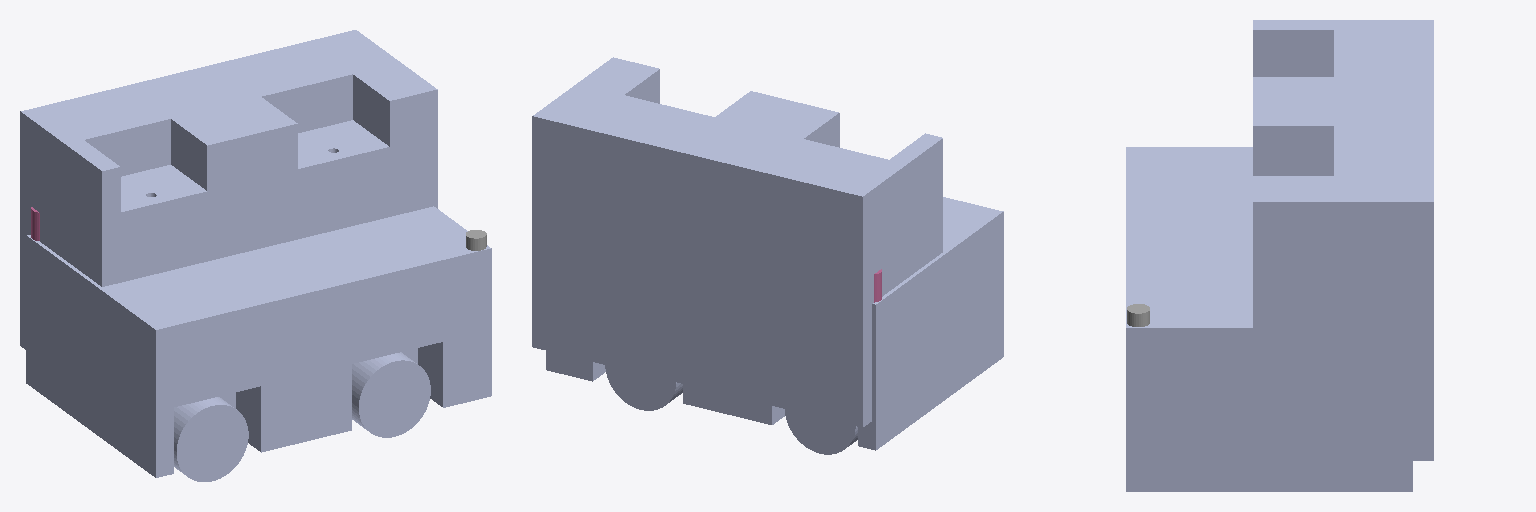
The robot description file, URDF, robot "toiletcleaner":
<?xml version="1.0" encoding="utf-8" ?>

<robot name="toiletcleaner" xmlns:xacro="toiletcleaner">
  <!--
  <xacro:property name="r200_cam_rgb_px" value="1.80" />
  <xacro:property name="r200_cam_rgb_py" value="-1.09" />
  <xacro:property name="r200_cam_rgb_pz" value="1.013" />
  <xacro:property name="r200_cam_depth_offset" value="0.01" />
  -->
  <!--#region robot-->
  <link name="base_footprint" />
  <joint name="base_joint" type="fixed">
    <parent link="base_footprint" />
    <child link="base_link" />
    <origin xyz="0 0 0" rpy="0 0 0" />
  </joint>
  <link name="base_link">
    <inertial>
      <origin xyz="0.0030973 2.7709E-17 0.16295" rpy="0 0 0" />
      <mass value="1000.335" />
      <inertia ixx="2.5416" ixy="8.9418E-17" ixz="0.029123" iyy="5.2004" iyz="7.8757E-17" izz="6.208" />
    </inertial>
    <visual>
      <origin xyz="0 0 0" rpy="0 0 0" />
      <geometry>
        <mesh filename="package://toiletcleaner/meshes/base_link.STL" />
      </geometry>
      <material name="">
        <color rgba="0.79216 0.81961 0.93333 1" />
      </material>
    </visual>
    <collision>
      <origin xyz="0 0 0" rpy="0 0 0" />
      <geometry>
        <mesh filename="package://toiletcleaner/meshes/base_link.STL" />
      </geometry>
    </collision>
  </link>
  <link name="wheelfl">
    <inertial>
      <origin xyz="0 0 0.0395" rpy="0 0 0" />
      <mass value="1000.5294" />
      <inertia ixx="0.0031515" ixy="3.2526E-19" ixz="6.1513E-20" iyy="0.0031515" iyz="3.6204E-20" izz="0.0047122" />
    </inertial>
    <visual>
      <origin xyz="0 0 0" rpy="0 0 0" />
      <geometry>
        <mesh filename="package://toiletcleaner/meshes/wheelfl.STL" />
      </geometry>
      <material name="">
        <color rgba="0.79216 0.81961 0.93333 1" />
      </material>
    </visual>
    <collision>
      <origin xyz="0 0 0" rpy="0 0 0" />
      <geometry>
        <mesh filename="package://toiletcleaner/meshes/wheelfl.STL" />
      </geometry>
    </collision>
  </link>
  <joint name="wheel2" type="fixed">
    <origin xyz="-0.236 -0.155 0.038" rpy="-1.5708 1.0388 -3.1416" />
    <parent link="base_link" />
    <child link="wheelfl" />
    <axis xyz="0 0 0" />
  </joint>
  <link name="wheelfr">
    <inertial>
      <origin xyz="0 2.7756E-17 0.0395" rpy="0 0 0" />
      <mass value="1000.5294" />
      <inertia ixx="0.0031515" ixy="-2.1684E-19" ixz="-7.9777E-20" iyy="0.0031515" iyz="-1.9702E-21" izz="0.0047122" />
    </inertial>
    <visual>
      <origin xyz="0 0 0" rpy="0 0 0" />
      <geometry>
        <mesh filename="package://toiletcleaner/meshes/wheelfr.STL" />
      </geometry>
      <material name="">
        <color rgba="0.79216 0.81961 0.93333 1" />
      </material>
    </visual>
    <collision>
      <origin xyz="0 0 0" rpy="0 0 0" />
      <geometry>
        <mesh filename="package://toiletcleaner/meshes/wheelfr.STL" />
      </geometry>
    </collision>
  </link>
  <joint name="wheel3" type="fixed">
    <origin xyz="-0.236 0.155 0.038" rpy="1.5708 1.1318 -3.1416" />
    <parent link="base_link" />
    <child link="wheelfr" />
    <axis xyz="0 0 1" />
  </joint>
  <link name="wheelrl">
    <inertial>
      <origin xyz="0 0 0.0395" rpy="0 0 0" />
      <mass value="1000.5294" />
      <inertia ixx="0.0031515" ixy="0" ixz="0" iyy="0.0031515" iyz="-9.1642E-36" izz="0.0047122" />
    </inertial>
    <visual>
      <origin xyz="0 0 0" rpy="0 0 0" />
      <geometry>
        <mesh filename="package://toiletcleaner/meshes/wheelrl.STL" />
      </geometry>
      <material name="">
        <color rgba="0.79216 0.81961 0.93333 1" />
      </material>
    </visual>
    <collision>
      <origin xyz="0 0 0" rpy="0 0 0" />
      <geometry>
        <mesh filename="package://toiletcleaner/meshes/wheelrl.STL" />
      </geometry>
    </collision>
  </link>
  <joint name="wheel1" type="fixed">
    <origin xyz="0.1605 -0.155 0.038" rpy="1.5708 0 0" />
    <parent link="base_link" />
    <child link="wheelrl" />
    <axis xyz="0 0 1" />
  </joint>
  <link name="wheelrr">
    <inertial>
      <origin xyz="0 0 0.0395" rpy="0 0 0" />
      <mass value="1000.5294" />
      <inertia ixx="0.0031515" ixy="1.0842E-19" ixz="1.6884E-20" iyy="0.0031515" iyz="-3.1442E-20" izz="0.0047122" />
    </inertial>
    <visual>
      <origin xyz="0 0 0" rpy="0 0 0" />
      <geometry>
        <mesh filename="package://toiletcleaner/meshes/wheelrr.STL" />
      </geometry>
      <material name="">
        <color rgba="0.79216 0.81961 0.93333 1" />
      </material>
    </visual>
    <collision>
      <origin xyz="0 0 0" rpy="0 0 0" />
      <geometry>
        <mesh filename="package://toiletcleaner/meshes/wheelrr.STL" />
      </geometry>
    </collision>
  </link>
  <joint name="wheel4" type="fixed">
    <origin xyz="0.1605 0.155 0.038" rpy="-1.5708 -0.49281 0" />
    <parent link="base_link" />
    <child link="wheelrr" />
    <axis xyz="0 0 1" />
  </joint>


  <link name="lidar1">
    <visual>
      <origin xyz="0 0 0" rpy="0 0 0" />
      <geometry>
        <cylinder length="0.0595" radius="0.02" />
      </geometry>
    </visual>
  </link>

  <joint name="lidar1joint" type="fixed">
    <origin xyz="-0.34379 0.22279 0.338" rpy="0 0 3.14" />
    <parent link="base_link" />
    <child link="lidar1" />
  </joint>

  <link name="lidar2">
    <visual>
      <origin xyz="0 0 0" rpy="0 0 0" />
      <geometry>
        <cylinder length="0.0315" radius="0.02" />
      </geometry>
    </visual>
  </link>

  <joint name="lidar2joint" type="fixed">
    <origin xyz="0.34379 -0.22279 0.318" rpy="0 0 0" />
    <parent link="base_link" />
    <child link="lidar2" />
  </joint>


  <link name="base_arm">
    <inertial>
      <origin xyz="-9.3071E-06 -0.1093 -0.023759" rpy="0 0 0" />
      <mass value="8.2109" />
      <inertia ixx="0.065683" ixy="5.0701E-05" ixz="-0.00010816" iyy="0.051477" iyz="0.0035599" izz="0.050867" />
    </inertial>
    <visual>
      <origin xyz="0 0 0" rpy="0 0 0" />
      <geometry>
        <mesh filename="package://toiletcleaner/meshes/delta/base_link.STL" />
      </geometry>
      <material name="">
        <color rgba="0.79216 0.81961 0.93333 1" />
      </material>
    </visual>
    <collision>
      <origin xyz="0 0 0" rpy="0 0 0" />
      <geometry>
        <mesh filename="package://toiletcleaner/meshes/delta/base_link.STL" />
      </geometry>
    </collision>
  </link>

  <joint name="baseMount" type="fixed">
    <origin xyz="0.00794615388435427 -0.0276456014098746 0.305" rpy="-1.5707963267949 0 0" />
    <parent link="base_link" />
    <child link="base_arm" />
    <axis xyz="0 0 0" />
  </joint>
  <link name="shoulder_link">
    <inertial>
      <origin xyz="-0.0078508 0.00014135 0.065441" rpy="0 0 0" />
      <mass value="2.9013" />
      <inertia ixx="0.014708" ixy="-0.00069611" ixz="0.0014618" iyy="0.014376" iyz="0.0035856" izz="0.011244" />
    </inertial>
    <visual>
      <origin xyz="0 0 0" rpy="0 0 0" />
      <geometry>
        <mesh filename="package://toiletcleaner/meshes/delta/shoulder_link.STL" />
      </geometry>
      <material name="">
        <color rgba="0.99608 0.99608 1 1" />
      </material>
    </visual>
    <collision>
      <origin xyz="0 0 0" rpy="0 0 0" />
      <geometry>
        <mesh filename="package://toiletcleaner/meshes/delta/shoulder_link.STL" />
      </geometry>
    </collision>
  </link>
  <joint name="shoulder" type="revolute">
    <origin xyz="0 -0.23 0" rpy="1.5708 1.5708 0" />
    <parent link="base_arm" />
    <child link="shoulder_link" />
    <axis xyz="0 0 1" />
    <limit lower="-2.9670597284" upper="2.9670597284" effort="1000" velocity="6.4577182324" />
  </joint>
  <link name="elbow_link">
    <inertial>
      <origin xyz="0 -0.23 0" rpy="1.5708 1.5708 0" />
      <mass value="8.5041" />
      <inertia ixx="0.15281" ixy="0.0001706" ixz="0.018394" iyy="0.15451" iyz="0.0013276" izz="0.022252" />
    </inertial>
    <visual>
      <origin xyz="0 0 0" rpy="0 0 0" />
      <geometry>
        <mesh filename="package://toiletcleaner/meshes/delta/elbow_link.STL" />
      </geometry>
      <material name="">
        <color rgba="0.99608 0.99608 1 1" />
      </material>
    </visual>
    <collision>
      <origin xyz="0 0 0" rpy="0 0 0" />
      <geometry>
        <mesh filename="package://toiletcleaner/meshes/delta/elbow_link.STL" />
      </geometry>
    </collision>
  </link>
  <joint name="elbow" type="revolute">
    <origin xyz="-0.025 0.11756 0.14" rpy="0 0 1.5708" />
    <parent link="shoulder_link" />
    <child link="elbow_link" />
    <axis xyz="-0.99931 0.035302 -0.011772" />
    <limit lower="-1.8325957146" upper="2.3561944902" effort="1000" velocity="4.5378560552" />
  </joint>
  <link name="wrist1_link">
    <inertial>
      <origin xyz="0.026153 -0.032487 -3.1699E-06" rpy="0 0 0" />
      <mass value="3.57" />
      <inertia ixx="0.015611" ixy="0.0024596" ixz="-2.2157E-07" iyy="0.0085149" iyz="1.2047E-06" izz="0.016453" />
    </inertial>
    <visual>
      <origin xyz="0 0 0" rpy="0 0 0" />
      <geometry>
        <mesh filename="package://toiletcleaner/meshes/delta/wrist1_link.STL" />
      </geometry>
      <material name="">
        <color rgba="0.99608 0.99608 1 1" />
      </material>
    </visual>
    <collision>
      <origin xyz="0 0 0" rpy="0 0 0" />
      <geometry>
        <mesh filename="package://toiletcleaner/meshes/delta/wrist1_link.STL" />
      </geometry>
    </collision>
  </link>
  <joint name="wrist1" type="revolute">
    <origin xyz="-0.11756 0 0.44" rpy="0 -1.5708 0" />
    <parent link="elbow_link" />
    <child link="wrist1_link" />
    <axis xyz="-0.011772 -0.035302 -0.99931" />
    <limit lower="-3.5779249666" upper="1.1344640138" effort="100" velocity="7.1558499332" />
  </joint>
  <link name="wrist2_link">
    <inertial>
      <origin xyz="0.16256 -9.3891E-06 -8.8884E-05" rpy="0 0 0" />
      <mass value="3.2244" />
      <inertia ixx="0.0048804" ixy="4.1602E-06" ixz="-0.00041865" iyy="0.0081183" iyz="-1.789E-06" izz="0.0094686" />
    </inertial>
    <visual>
      <origin xyz="0 0 0" rpy="0 0 0" />
      <geometry>
        <mesh filename="package://toiletcleaner/meshes/delta/wrist2_link.STL" />
      </geometry>
      <material name="">
        <color rgba="0.79216 0.81961 0.93333 1" />
      </material>
    </visual>
    <collision>
      <origin xyz="0 0 0" rpy="0 0 0" />
      <geometry>
        <mesh filename="package://toiletcleaner/meshes/delta/wrist2_link.STL" />
      </geometry>
    </collision>
  </link>
  <joint name="wrist2" type="revolute">
    <origin xyz="0.0400000444661043 -0.435000000020256 0" rpy="-3.14159265358979 0 1.5707963267949" />
    <parent link="wrist1_link" />
    <child link="wrist2_link" />
    <axis xyz="-1 0 0" />
    <limit lower="-3.3161255788" upper="3.3161255788" effort="100" velocity="9.599310886" />
  </joint>
  <link name="wrist3_link">
    <inertial>
      <origin xyz="-3.4357E-05 0.0072747 -0.047367" rpy="0 0 0" />
      <mass value="0.22106" />
      <inertia ixx="0.00017763" ixy="1.6719E-07" ixz="8.793E-09" iyy="0.00017949" iyz="-1.2119E-05" izz="0.00014461" />
    </inertial>
    <visual>
      <origin xyz="0 0 0" rpy="0 0 0" />
      <geometry>
        <mesh filename="package://toiletcleaner/meshes/delta/wrist3_link.STL" />
      </geometry>
      <material name="">
        <color rgba="0.79216 0.81961 0.93333 1" />
      </material>
    </visual>
    <collision>
      <origin xyz="0 0 0" rpy="0 0 0" />
      <geometry>
        <mesh filename="package://toiletcleaner/meshes/delta/wrist3_link.STL" />
      </geometry>
    </collision>
  </link>
  <joint name="wrist3" type="revolute">
    <origin xyz="0.0330000000202569 0 0" rpy="1.5707963267949 0 1.5707963267949" />
    <parent link="wrist2_link" />
    <child link="wrist3_link" />
    <axis xyz="0 -1 0" />
    <limit lower="-2.0943951024" upper="2.0943951024" effort="9.5120444234" velocity="7" />
  </joint>
  <link name="wrist4_link">
    <inertial>
      <origin xyz="-0.0032297 7.0268E-05 -9.16E-05" rpy="0 0 0" />
      <mass value="0.046951" />
      <inertia ixx="2.5829E-05" ixy="2.1441E-09" ixz="-2.7949E-09" iyy="1.3329E-05" iyz="-8.2641E-08" izz="1.3373E-05" />
    </inertial>
    <visual>
      <origin xyz="0 0 0" rpy="0 0 0" />
      <geometry>
        <mesh filename="package://toiletcleaner/meshes/delta/wrist4_link.STL" />
      </geometry>
      <material name="">
        <color rgba="0.74902 0.74902 0.74902 1" />
      </material>
    </visual>
    <collision>
      <origin xyz="0 0 0" rpy="0 0 0" />
      <geometry>
        <mesh filename="package://toiletcleaner/meshes/delta/wrist4_link.STL" />
      </geometry>
    </collision>
  </link>
  <joint name="wrist4" type="revolute">
    <origin xyz="0 0 -0.0984999999999989" rpy="1.4398966303838 -1.5707963267949 0" />
    <parent link="wrist3_link" />
    <child link="wrist4_link" />
    <axis xyz="1 0 0" />
    <limit lower="-6.2831853072" upper="6.2831853072" effort="100" velocity="17.45329252" />
  </joint>
  <!--#endregion robot-->

  <!--#region extraLinks-->

  <!--#region cam links-->
  <joint name="camera_joint" type="fixed">
    <origin xyz="0.05 -0.06 -0.06" rpy="0 1.57 0" />
    <parent link="wrist3_link" />
    <child link="camera_link" />
  </joint>

  <link name="camera_link">
    <visual>
      <origin xyz="0 0 0" rpy="1.57 0 1.57" />
      <geometry>
        <mesh filename="package://toiletcleaner/meshes/r200.dae" />
      </geometry>
    </visual>
    <collision>
      <origin xyz="0.003 0.065 0.007" rpy="0 0 0" />
      <geometry>
        <box size="0.012 0.132 0.020" />
      </geometry>
    </collision>
  </link>

  <joint name="camera_rgb_joint" type="fixed">
    <origin xyz="0 0 0" rpy="0 0 0" />
    <parent link="camera_link" />
    <child link="camera_rgb_frame" />
  </joint>
  <link name="camera_rgb_frame" />

  <joint name="camera_rgb_optical_joint" type="fixed">
    <origin xyz="0 0 0" rpy="-1.57 0 -1.57" />
    <parent link="camera_rgb_frame" />
    <child link="camera_rgb_optical_frame" />
  </joint>
  <link name="camera_rgb_optical_frame" />

  <joint name="camera_depth_joint" type="fixed">
    <origin xyz="0 0.01 0" rpy="0 0 0" />
    <parent link="camera_link" />
    <child link="camera_depth_frame" />
  </joint>
  <link name="camera_depth_frame" />

  <joint name="camera_depth_optical_joint" type="fixed">
    <origin xyz="0 0 0" rpy="-1.57 0 -1.57" />
    <parent link="camera_depth_frame" />
    <child link="camera_depth_optical_frame" />
  </joint>
  <link name="camera_depth_optical_frame" />
  <!--#endregion links-->

  <!--#endregion extraLiniks-->

  <!--#region gazebo plugins-->

  <!--#region holonomic movement-->
  <gazebo>
    <plugin name="object_controller" filename="libgazebo_ros_planar_move.so">
      <commandTopic>cmd_vel</commandTopic>
      <odometryTopic>odom</odometryTopic>
      <odometryFrame>odom</odometryFrame>
      <odometryRate>20.0</odometryRate>
      <robotBaseFrame>base_footprint</robotBaseFrame>
    </plugin>
  </gazebo>
  <!--#endregion holonomic movement-->

  <!--#region ros_control-->
  <gazebo>
    <plugin name="gazebo_ros_control" filename="libgazebo_ros_control.so">
      <robotNamespace>/toiletcleaner</robotNamespace>
      <robotSimType>gazebo_ros_control/DefaultRobotHWSim</robotSimType>
      <legacyModeNS>true</legacyModeNS>
    </plugin>
    <plugin name="gzplugin_joint_control" filename="libgazebo_joint_control.so">
      <robot_components_namespace>toiletcleaner</robot_components_namespace>
    </plugin>
    <plugin name="gzplugin_joint_state_client" filename="libgazebo_joint_state_client.so">
      <robot_components_namespace>toiletcleaner</robot_components_namespace>
    </plugin>
    <plugin name="gzplugin_joint_state_publisher" filename="libgazebo_joint_state_publisher.so">
      <robot_components_namespace>toiletcleaner</robot_components_namespace>
    </plugin>
    <plugin name="gzplugin_joint_trajectory_server" filename="libgazebo_joint_trajectory_server.so">
      <robot_components_namespace>toiletcleaner</robot_components_namespace>
      <trajectory_param_namespace>toiletcleaner_trajectory</trajectory_param_namespace>
    </plugin>
  </gazebo>
  <!--#endregion ros_control-->

  <!--#region transmissions-->
  <transmission name="tran0">
    <type>transmission_interface/SimpleTransmission</type>
    <joint name="shoulder">
      <hardwareInterface>hardware_interface/VelocityJointInterface</hardwareInterface>
    </joint>
    <actuator name="motor0">
      <hardwareInterface>hardware_interface/VelocityJointInterface</hardwareInterface>
      <mechanicalReduction>1</mechanicalReduction>
    </actuator>
  </transmission>

  <transmission name="tran1">
    <type>transmission_interface/SimpleTransmission</type>
    <joint name="elbow">
      <hardwareInterface>hardware_interface/VelocityJointInterface</hardwareInterface>
    </joint>
    <actuator name="motor1">
      <hardwareInterface>hardware_interface/VelocityJointInterface</hardwareInterface>
      <mechanicalReduction>1</mechanicalReduction>
    </actuator>
  </transmission>
  <transmission name="tran2">
    <type>transmission_interface/SimpleTransmission</type>
    <joint name="wrist1">
      <hardwareInterface>hardware_interface/VelocityJointInterface</hardwareInterface>
    </joint>
    <actuator name="motor2">
      <hardwareInterface>hardware_interface/VelocityJointInterface</hardwareInterface>
      <mechanicalReduction>1</mechanicalReduction>
    </actuator>
  </transmission>
  <transmission name="tran3">
    <type>transmission_interface/SimpleTransmission</type>
    <joint name="wrist2">
      <hardwareInterface>hardware_interface/VelocityJointInterface</hardwareInterface>
    </joint>
    <actuator name="motor3">
      <hardwareInterface>hardware_interface/VelocityJointInterface</hardwareInterface>
      <mechanicalReduction>1</mechanicalReduction>
    </actuator>
  </transmission>
  <transmission name="tran4">
    <type>transmission_interface/SimpleTransmission</type>
    <joint name="wrist3">
      <hardwareInterface>hardware_interface/VelocityJointInterface</hardwareInterface>
    </joint>
    <actuator name="motor4">
      <hardwareInterface>hardware_interface/VelocityJointInterface</hardwareInterface>
      <mechanicalReduction>1</mechanicalReduction>
    </actuator>
  </transmission>

  <transmission name="tran5">
    <type>transmission_interface/SimpleTransmission</type>
    <joint name="wrist4">
      <hardwareInterface>hardware_interface/VelocityJointInterface</hardwareInterface>
    </joint>
    <actuator name="motor5">
      <hardwareInterface>hardware_interface/VelocityJointInterface</hardwareInterface>
      <mechanicalReduction>1</mechanicalReduction>
    </actuator>
  </transmission>
  <!--#endregion transmissions-->

  <!--#region lazer-->
  <gazebo reference="lidar2">
    <sensor type="ray" name="fullradious">
      <pose>0 0 0 0 0 0</pose>
      <visualize>false</visualize>
      <update_rate>80</update_rate>
      <ray>
        <scan>
          <horizontal>
            <samples>720</samples>
            <resolution>1</resolution>
            <min_angle>-3</min_angle>
            <max_angle>1.6</max_angle>
          </horizontal>
        </scan>
        <range>
          <min>0.05</min>
          <max>5.0</max>
          <resolution>0.01</resolution>
        </range>
        <noise>
          <type>gaussian</type>
          <mean>0.0</mean>
          <stddev>0.01</stddev>
        </noise>
      </ray>
      <plugin name="gazebo_ros_head_hokuyo_controller" filename="libgazebo_ros_laser.so">
        <topicName>scan2</topicName>
        <frameName>lidar2</frameName>
      </plugin>
    </sensor>
  </gazebo>

  <gazebo reference="lidar1">
    <sensor type="ray" name="halfradious">
      <pose>0 0 0 0 0 0</pose>
      <visualize>false</visualize>
      <update_rate>80</update_rate>
      <ray>
        <scan>
          <horizontal>
            <samples>720</samples>
            <resolution>1</resolution>
            <min_angle>-3</min_angle>
            <max_angle>1.5</max_angle>
          </horizontal>
        </scan>
        <range>
          <min>0.05</min>
          <max>5.0</max>
          <resolution>0.01</resolution>
        </range>
        <noise>
          <type>gaussian</type>
          <mean>0.0</mean>
          <stddev>0.01</stddev>
        </noise>
      </ray>
      <plugin name="gazebo_ros_head_hokuyo_controller" filename="libgazebo_ros_laser.so">
        <topicName>scan1</topicName>
        <frameName>lidar1</frameName>
      </plugin>
    </sensor>
  </gazebo>
  <!--#endregion lazer-->

  <!--#region cams-->
  <gazebo reference="camera_rgb_frame">
    <sensor type="depth" name="realsense_R200">
      <always_on>true</always_on>
      <visualize>true</visualize>
      <camera>
        <horizontal_fov>1.3439</horizontal_fov>
        <image>
          <width>1920</width>
          <height>1080</height>
          <format>R8G8B8</format>
        </image>
        <depth_camera></depth_camera>
        <clip>
          <near>0.03</near>
          <far>100</far>
        </clip>
      </camera>
      <plugin name="camera_controller" filename="libgazebo_ros_openni_kinect.so">
        <baseline>0.2</baseline>
        <alwaysOn>true</alwaysOn>
        <updateRate>30.0</updateRate>
        <cameraName>camera</cameraName>
        <frameName>camera_rgb_optical_frame</frameName>
        <imageTopicName>rgb/image_raw</imageTopicName>
        <depthImageTopicName>depth/image_raw</depthImageTopicName>
        <pointCloudTopicName>depth/points</pointCloudTopicName>
        <cameraInfoTopicName>rgb/camera_info</cameraInfoTopicName>
        <depthImageCameraInfoTopicName>depth/camera_info</depthImageCameraInfoTopicName>
        <pointCloudCutoff>0.4</pointCloudCutoff>
        <hackBaseline>0.07</hackBaseline>
        <distortionK1>0.0</distortionK1>
        <distortionK2>0.0</distortionK2>
        <distortionK3>0.0</distortionK3>
        <distortionT1>0.0</distortionT1>
        <distortionT2>0.0</distortionT2>
        <CxPrime>0.0</CxPrime>
        <Cx>0.0</Cx>
        <Cy>0.0</Cy>
        <focalLength>0</focalLength>
        <hackBaseline>0</hackBaseline>
      </plugin>
    </sensor>
  </gazebo>
  <!--#endregion cams-->


  <!--#endregion gazebo plugins-->


  <!--#region arm-->
  <!--#endregion-->

</robot>

--- What the picture shows (computed from the rendered views, not written in the file) ---
Views: 3 orthographic renders of the robot side by side, from view 1: azimuth 30°, elevation 25°; view 2: azimuth 150°, elevation 25°; view 3: azimuth 270°, elevation 25°.
Robot: toiletcleaner — 20 links, 19 joints (6 revolute, 13 fixed); root link base_footprint; default pose: all joints at 0.
Links seen in each view (by area): view 1: base_link, base_arm, wheelrl, wheelfl; view 2: base_arm, base_link, wheelrr, wheelfr; view 3: base_arm, base_link.
Boxes of the visible links, <box> form: base_link: <box>26,206,491,477</box>; base_arm: <box>20,30,437,349</box>; wheelrl: <box>352,352,430,437</box>; wheelfl: <box>174,397,248,481</box>; base_arm: <box>532,57,942,427</box>; base_link: <box>546,197,1003,450</box>; wheelrr: <box>605,365,682,410</box>; wheelfr: <box>785,409,857,454</box>; base_arm: <box>1253,20,1433,460</box>; base_link: <box>1126,147,1412,491</box>.
Size in the robot's own frame: 0.7379 by 0.5244 by 0.5895 metres.
Meshes: 13 distinct files referenced, 6 mesh visuals loaded (5 binary STL); not drawn: 7 (reference not matched to a file when rendering).
